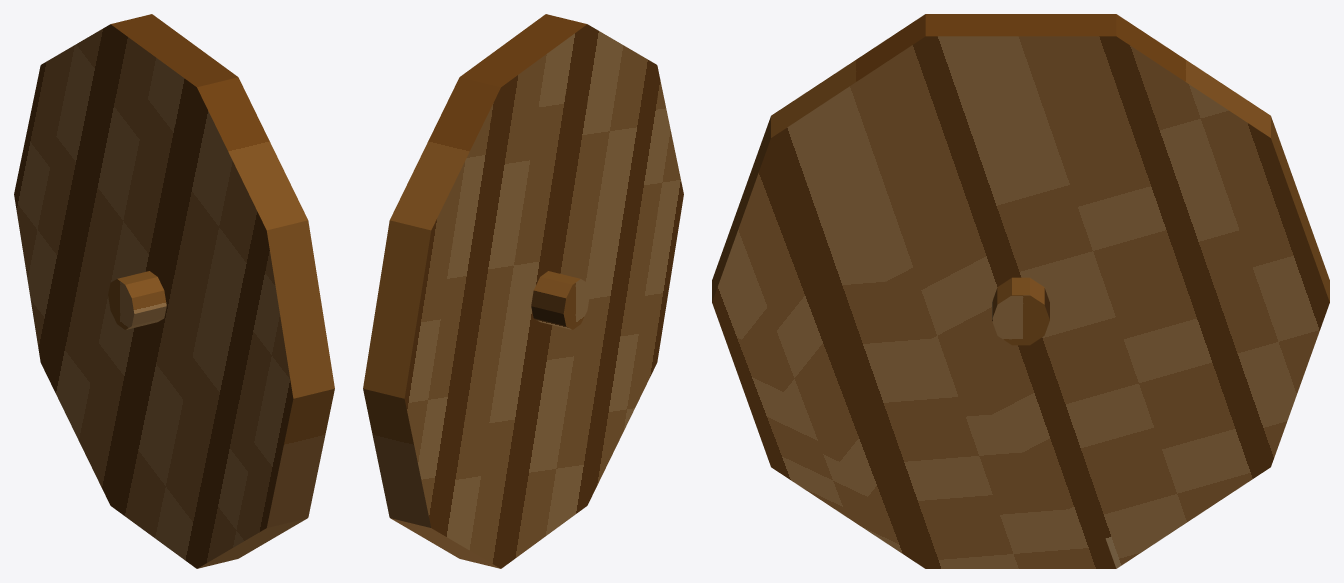
Rendered from cart_774.gltf.
3 views of the same model, side by side, from view 1: azimuth 30°, elevation 25°; view 2: azimuth 150°, elevation 25°; view 3: azimuth 270°, elevation 25° (orthographic). The views are drawn at different scales.
Parts seen in each view (by area): view 1: Cylinder.001; view 2: Cylinder.001; view 3: Cylinder.001.
Boxes of the visible parts, <box> form: Cylinder.001: <box>14,14,334,568</box>; Cylinder.001: <box>363,14,683,568</box>; Cylinder.001: <box>712,14,1329,568</box>.
Size of the model in its own units: 0.6792 by 2.93 by 3.08.
1 material, 1 textured.
